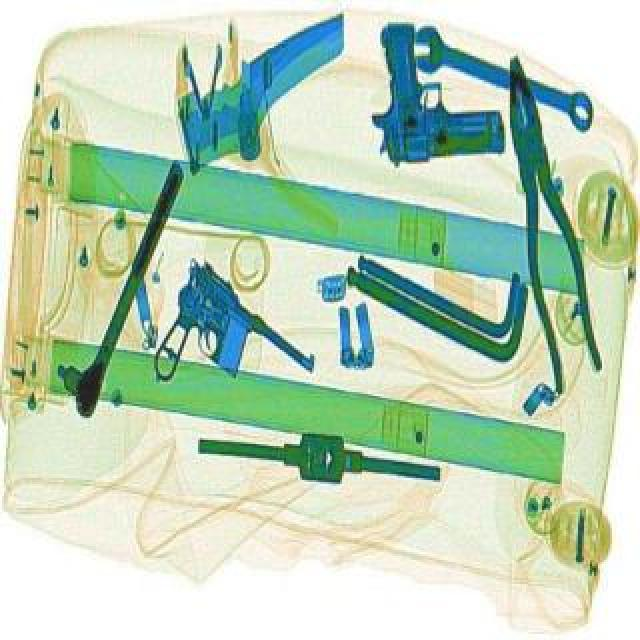gun: (112, 252, 330, 444), (360, 12, 508, 164)
scissors: (400, 18, 604, 136)
wrench: (486, 52, 606, 390)
